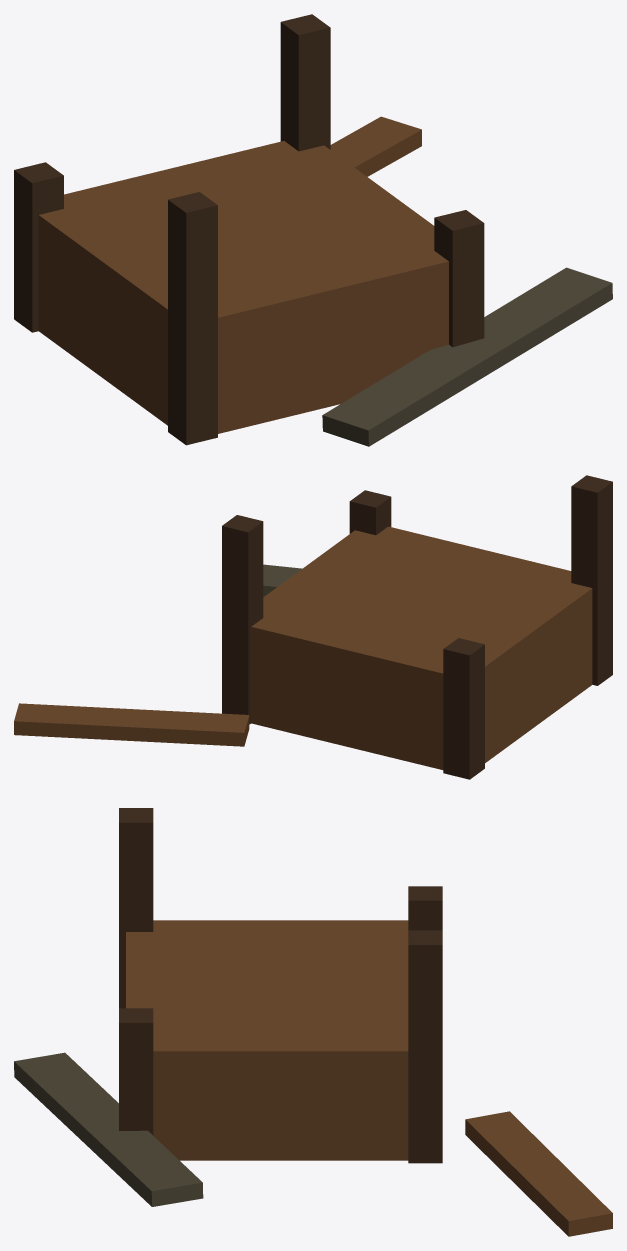
File: crate_broken.fbx
3 renders of one model, top to bottom at view 1: azimuth 30°, elevation 25°; view 2: azimuth 150°, elevation 25°; view 3: azimuth 270°, elevation 25°, orthographic. The views are drawn at different scales.
Parts seen in each view (by area): view 1: crate_broken; view 2: crate_broken; view 3: crate_broken.
Boxes of the visible parts, left/top/right/bottom form: crate_broken: left=14, top=14, right=612, bottom=446; crate_broken: left=14, top=475, right=612, bottom=779; crate_broken: left=14, top=808, right=612, bottom=1236.
Bounding box in the file's own units: 1.5 × 0.7 × 1.74.
